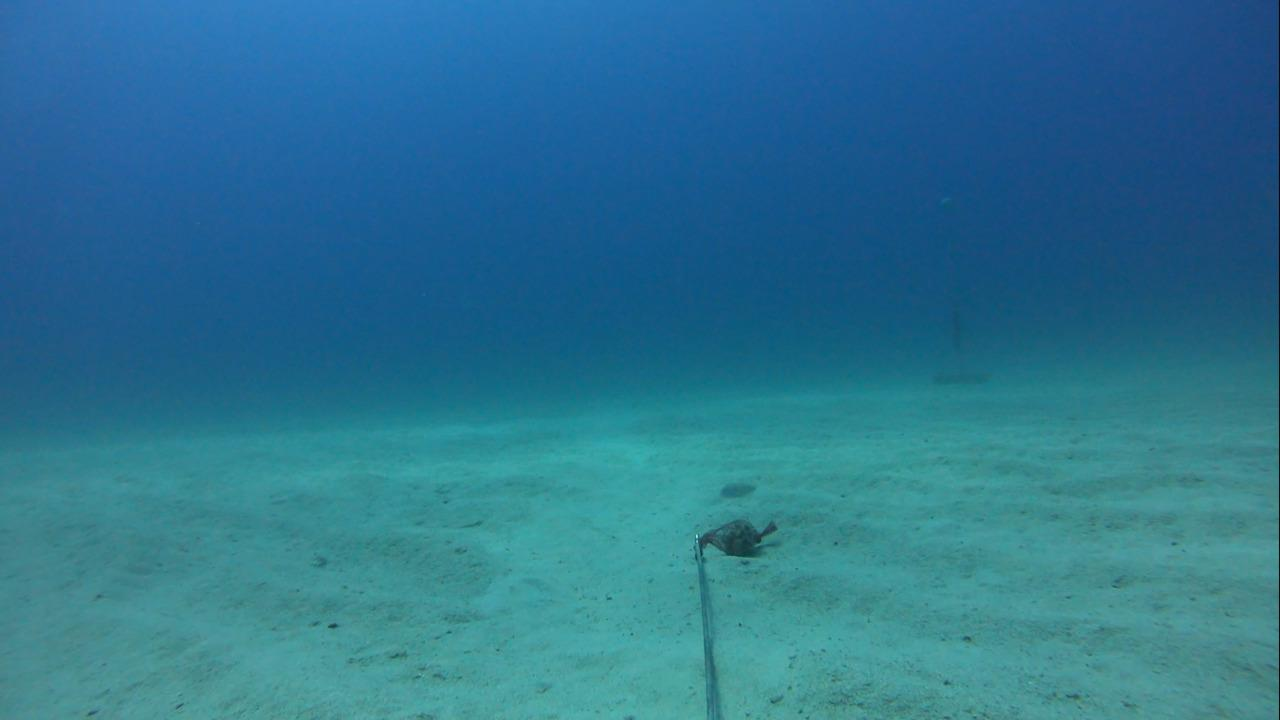raor: (710, 477, 759, 501)
